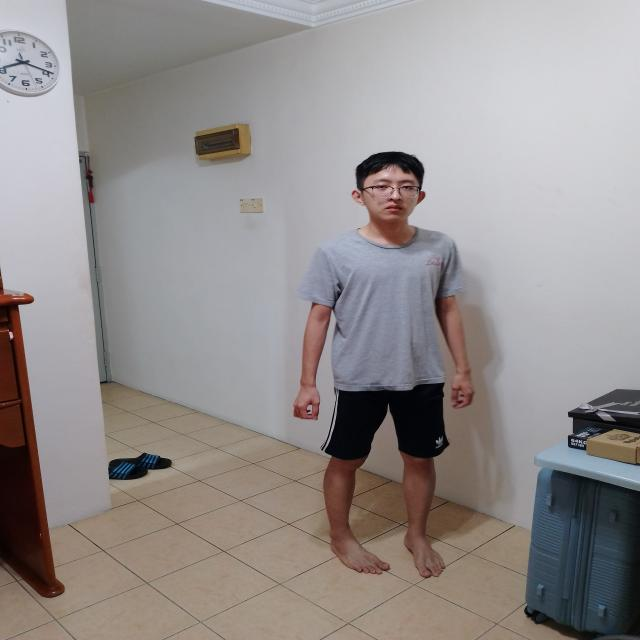person_without_labcoat: (294, 152, 474, 578)
